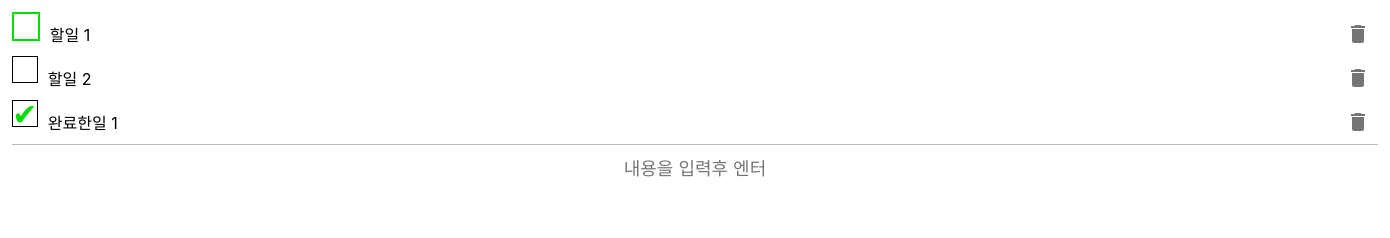
it: TodoList › adds a task when typing and pressing Enter
Type "새 할일" into the field with placeholder "내용을 입력후 엔터" at (695, 169), box [12,144,1378,194]
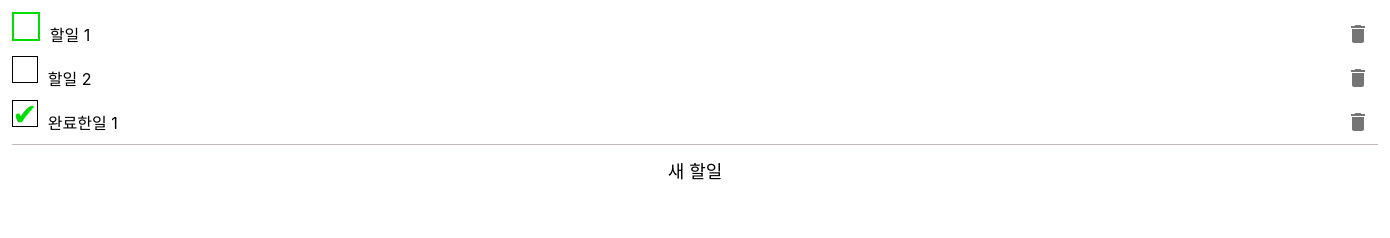
Press Enter in the field with placeholder "내용을 입력후 엔터", box [12,144,1378,194]
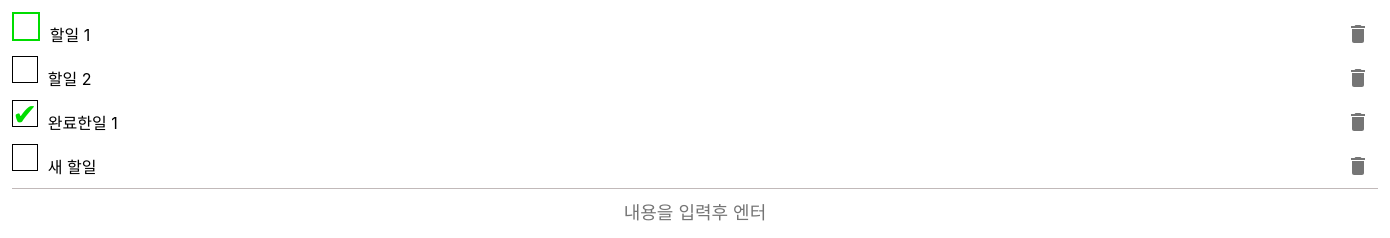
Result: the text "새 할일" is shown at [48,157,96,177]
